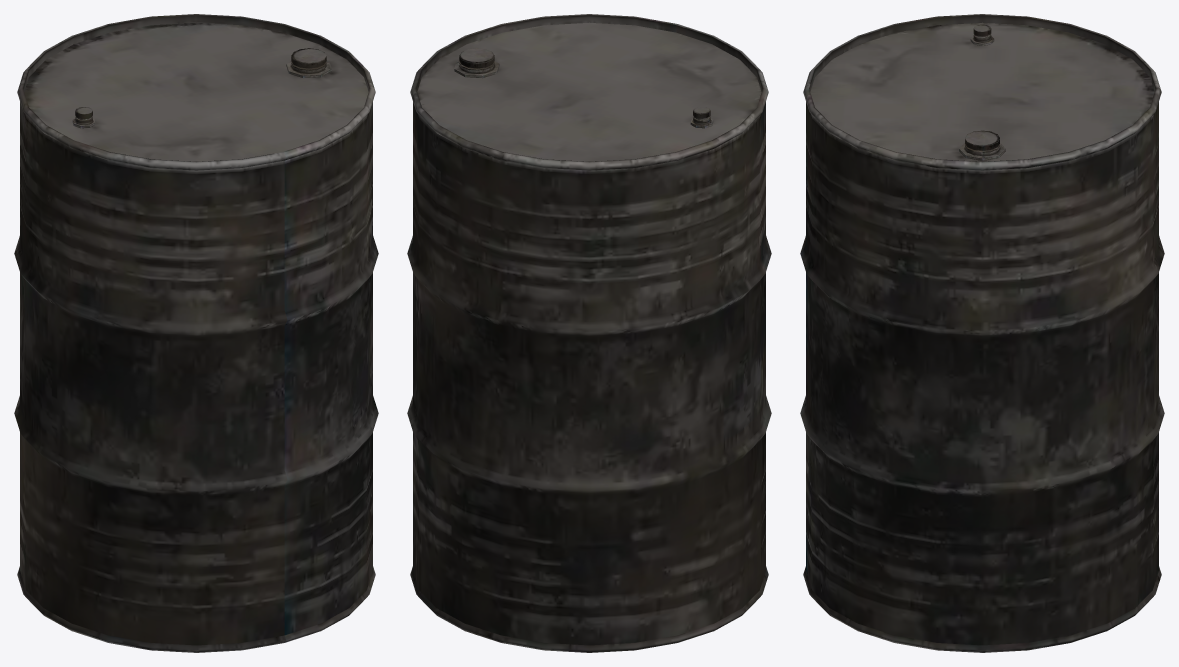
File: Barrel_02.glb
3 views of the same model, side by side, from view 1: azimuth 30°, elevation 25°; view 2: azimuth 150°, elevation 25°; view 3: azimuth 270°, elevation 25° (orthographic).
Parts seen in each view (by area): view 1: Barrel_02; view 2: Barrel_02; view 3: Barrel_02.
Part boxes in pixels (x1,y1,x2,y2): Barrel_02: [14, 14, 378, 652]; Barrel_02: [407, 14, 771, 652]; Barrel_02: [800, 14, 1164, 652].
Bounding box in the file's own units: 0.7223 × 1.08 × 0.7223.
Materials: 1 (1 with a texture image).
